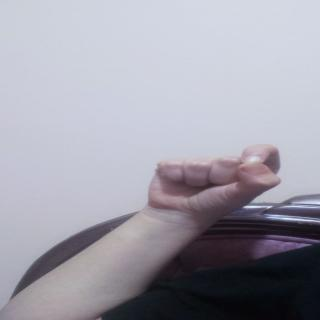FAA: (144, 138, 316, 208)
